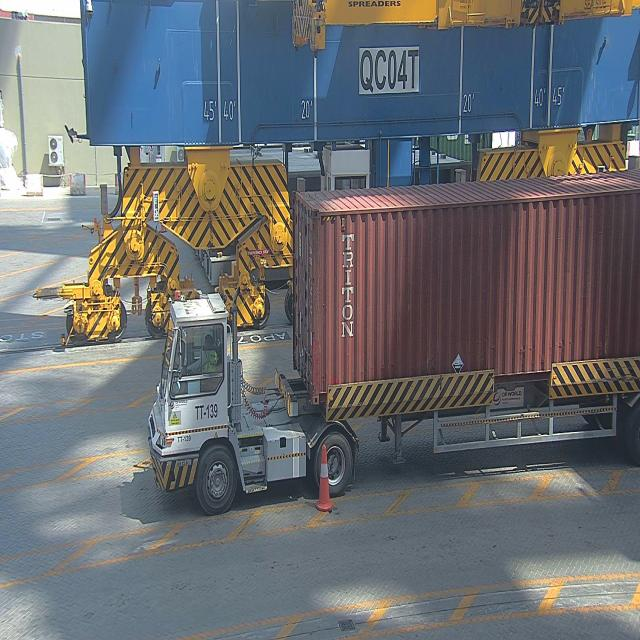dent: (518, 338, 569, 370)
